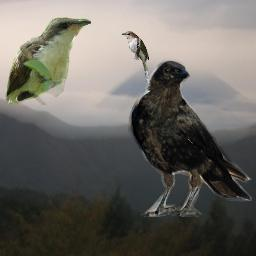Crow: (128, 59, 252, 217)
Cuckoo: (4, 17, 91, 105), (121, 31, 149, 84)
